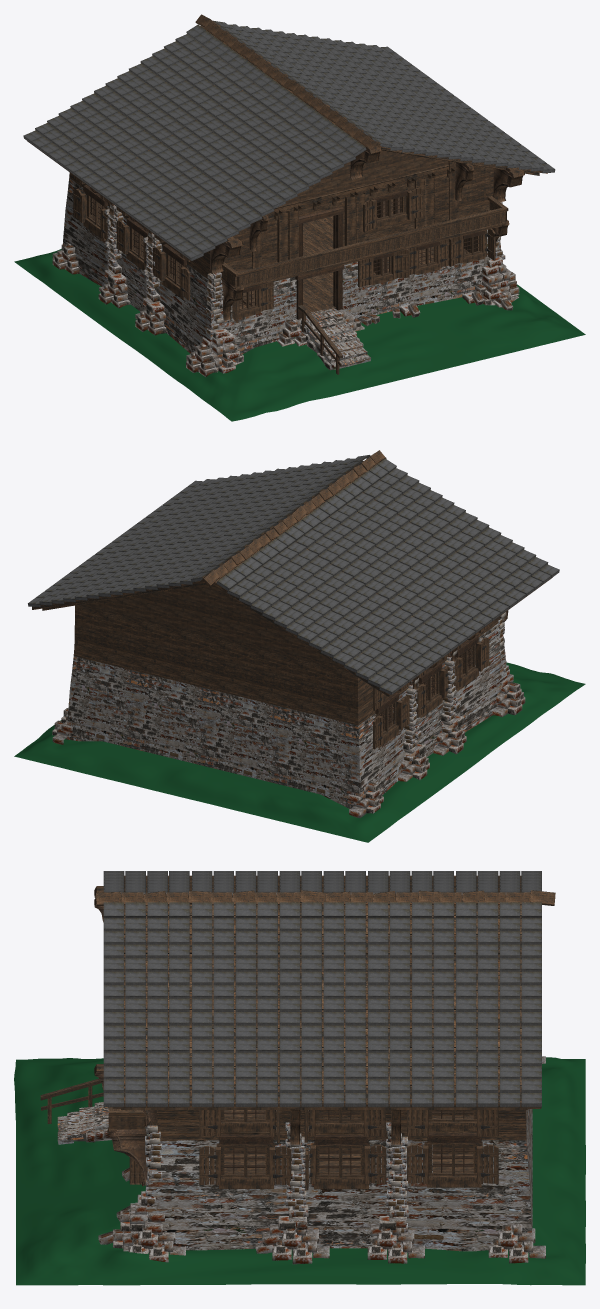
The model's file is tavern_house_asset.glb.
The picture shows the model from 3 angles, top to bottom: view 1: azimuth 30°, elevation 25°; view 2: azimuth 150°, elevation 25°; view 3: azimuth 270°, elevation 25°; orthographic projection. The views are drawn at different scales.
Visible parts, largest first — view 1: O_SquareShaped_RoofShingels.302, O_OutdoorGroundBase, Cube, Cube.015, Cube.001, O_RoofTopShingles.043, Cube.035, O_Base_Bricks.022, O_FrontSteps, Cube.003, Cube.045, Cube.002 (+19 smaller); view 2: O_SquareShaped_RoofShingels.302, Cube, O_OutdoorGroundBase, Cube.001, O_RoofTopShingles.043, Cube.035, Cube.002, O_Base_Bricks.022, O_Base_Bricks.014; view 3: O_SquareShaped_RoofShingels.302, O_OutdoorGroundBase, Cube, Cube.002, Cube.049, O_RoofTopShingles.043, O_Base_Bricks.048, Cube.045, O_Base_Bricks.026, Cube.057, O_FrontSteps, O_Base_Bricks.012 (+16 smaller).
Part boxes in pixels (x1,y1,x2,y2): O_SquareShaped_RoofShingels.302: [23, 20, 555, 260]; O_OutdoorGroundBase: [14, 249, 585, 421]; Cube: [62, 165, 501, 354]; Cube.015: [235, 208, 506, 287]; Cube.001: [281, 150, 474, 205]; O_RoofTopShingles.043: [195, 14, 382, 149]; Cube.035: [83, 185, 187, 299]; O_Base_Bricks.022: [104, 204, 165, 321]; O_FrontSteps: [299, 308, 370, 369]; Cube.003: [266, 165, 448, 219]; Cube.045: [137, 233, 469, 313]; Cube.002: [27, 24, 547, 260]; O_SquareShaped_RoofShingels.302: [28, 455, 559, 694]; Cube: [66, 604, 507, 808]; O_OutdoorGroundBase: [14, 662, 585, 842]; Cube.001: [81, 584, 344, 669]; O_RoofTopShingles.043: [198, 450, 385, 586]; Cube.035: [375, 632, 478, 748]; Cube.002: [32, 461, 552, 696]; O_Base_Bricks.022: [403, 650, 464, 761]; O_Base_Bricks.014: [492, 681, 525, 717]; O_SquareShaped_RoofShingels.302: [103, 871, 541, 1107]; O_OutdoorGroundBase: [14, 1057, 585, 1285]; Cube: [147, 1109, 532, 1251]; Cube.002: [112, 875, 541, 1109]; Cube.049: [216, 1110, 482, 1189]; O_RoofTopShingles.043: [96, 890, 555, 906]; O_Base_Bricks.048: [270, 1122, 409, 1236]; Cube.045: [224, 1154, 473, 1171]; O_Base_Bricks.026: [130, 1125, 164, 1223]; Cube.057: [212, 953, 520, 1153]; O_FrontSteps: [57, 1102, 108, 1144]; O_Base_Bricks.012: [128, 1224, 185, 1262].
Bounding box in the file's own units: 23.12 × 15.73 × 24.02.
9 materials, 8 textured.
